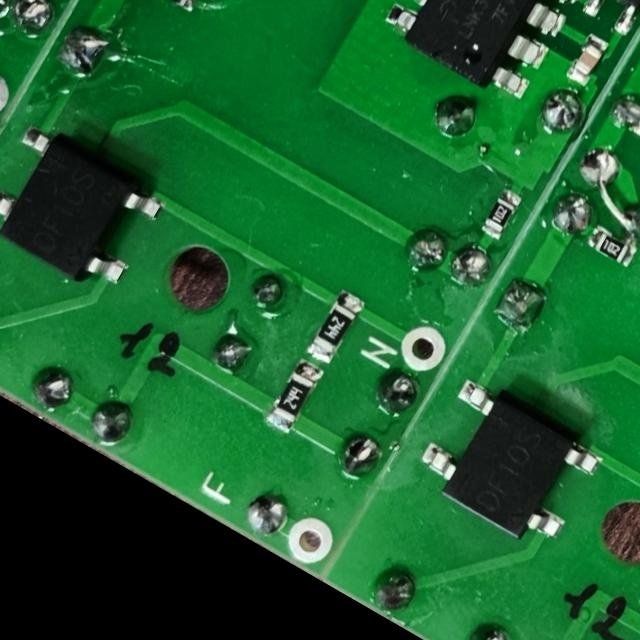chip-capacitor: (562, 30, 611, 90)
chip-resistor: (303, 287, 368, 369), (262, 356, 326, 436), (475, 184, 526, 244), (583, 221, 640, 271)
ic: (404, 372, 608, 560), (0, 116, 171, 303), (375, 0, 588, 110)
